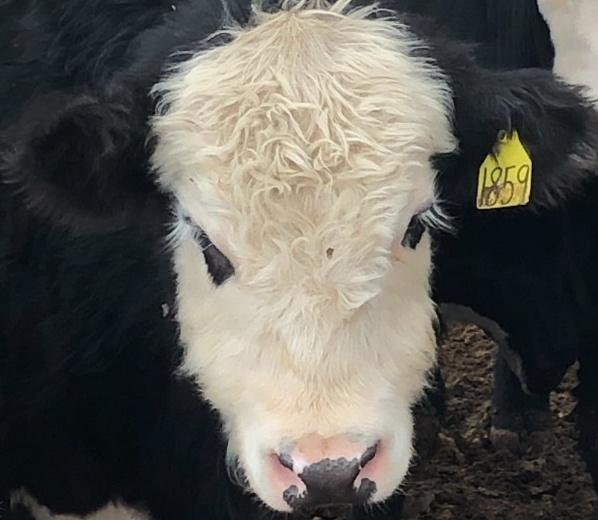muzzles: (246, 426, 413, 512)
